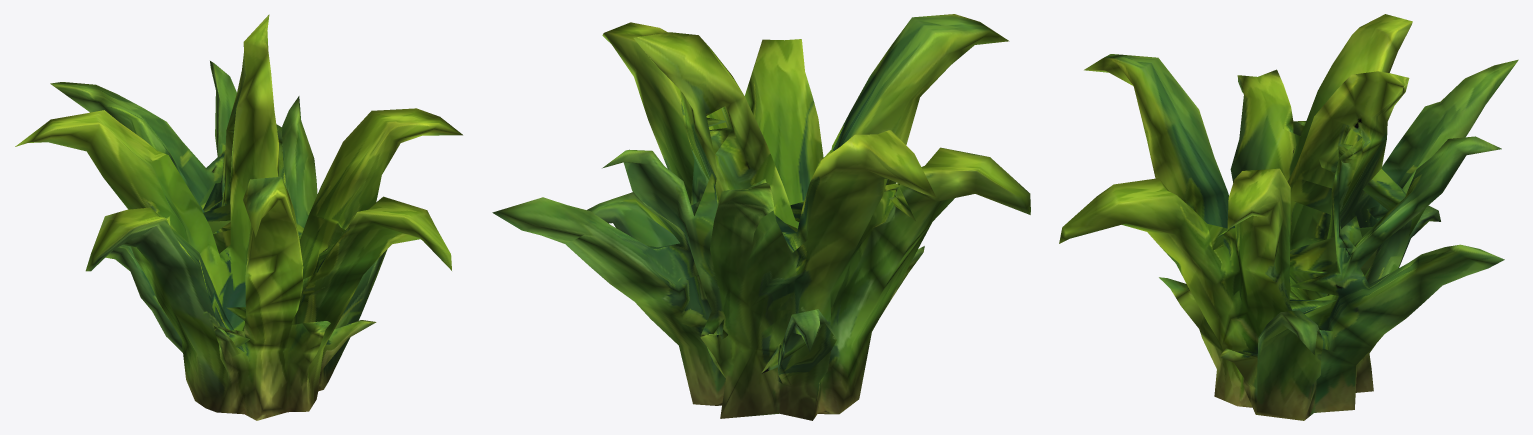
Rendered from planta_pasto_alto.glb.
The picture shows the model from 3 angles, left to right: view 1: azimuth 30°, elevation 25°; view 2: azimuth 150°, elevation 25°; view 3: azimuth 270°, elevation 25°; orthographic projection. The views are drawn at different scales.
Visible parts, largest first — view 1: planta_pasto_alto; view 2: planta_pasto_alto; view 3: planta_pasto_alto.
Boxes of the visible parts, x1,y1,x2,y2 form: planta_pasto_alto: (15, 14, 462, 420); planta_pasto_alto: (492, 14, 1030, 420); planta_pasto_alto: (1059, 14, 1518, 420).
Bounding box in the file's own units: 1.2 × 1 × 1.2.
Materials: 1 (1 with a texture image).
